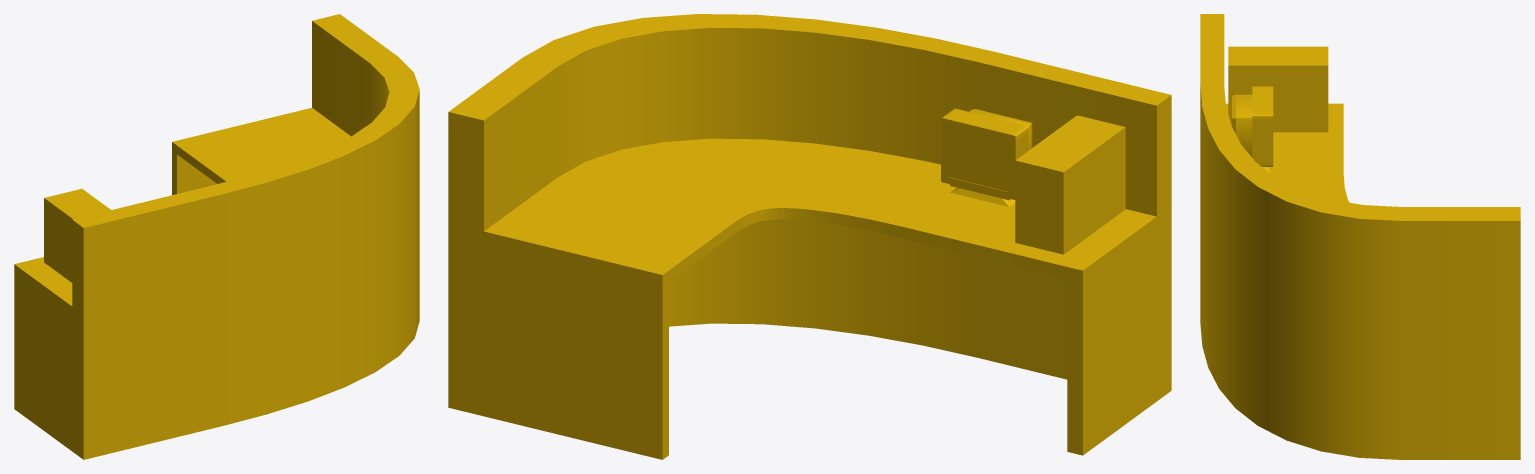
The model's file is Bancada_Entrada.fbx.
The picture shows the model from 3 angles, left to right: view 1: azimuth 30°, elevation 25°; view 2: azimuth 150°, elevation 25°; view 3: azimuth 270°, elevation 25°; orthographic projection. The views are drawn at different scales.
Visible parts, largest first — view 1: Mesa; view 2: Mesa; view 3: Mesa.
Part boxes in pixels (x1=…): Mesa: x1=14, y1=14, x2=419, y2=459; Mesa: x1=448, y1=14, x2=1171, y2=459; Mesa: x1=1200, y1=14, x2=1520, y2=459.
Bounding box in the file's own units: 2.6 × 1.7 × 1.4.
